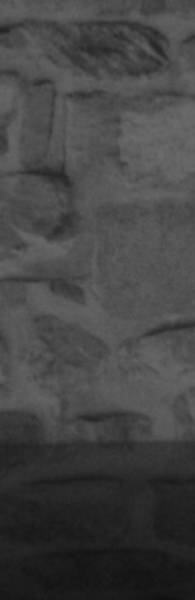water: (0, 443, 195, 600)
